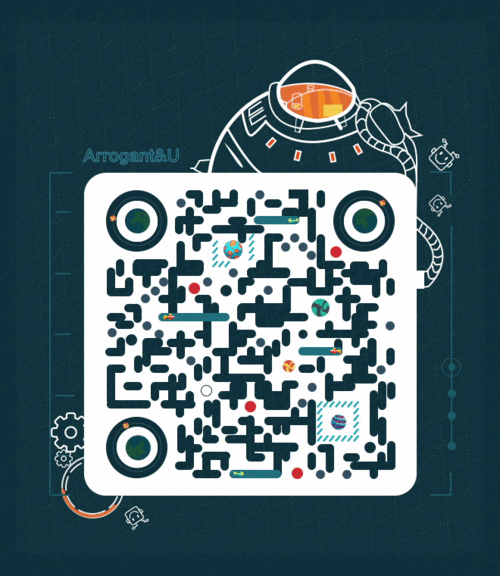QRCode: (96, 181, 401, 486)
